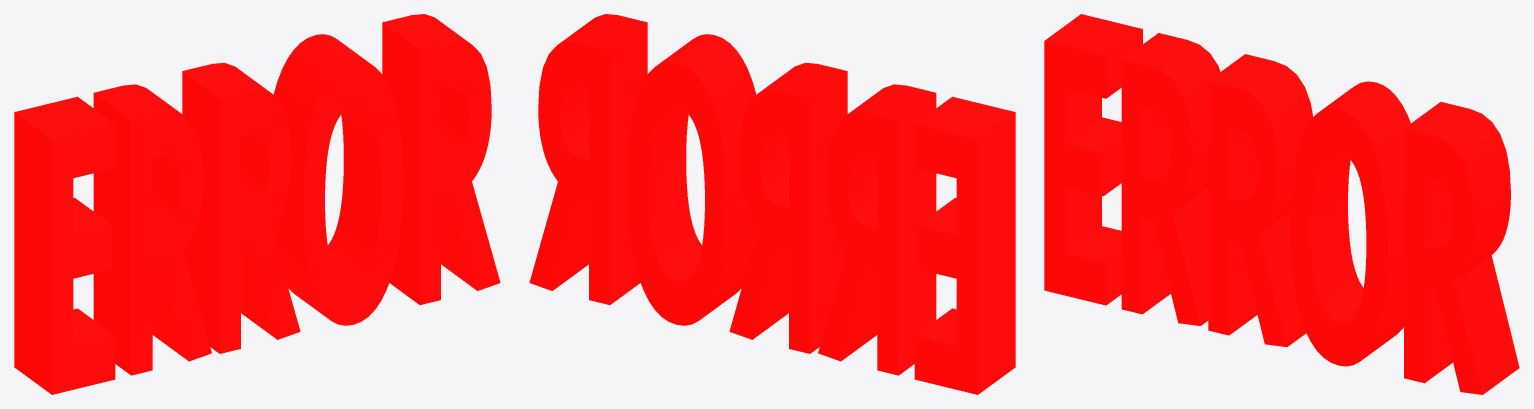
The model's file is error.glb.
The picture shows the model from 3 angles, left to right: view 1: azimuth 30°, elevation 25°; view 2: azimuth 150°, elevation 25°; view 3: azimuth 330°, elevation 25°; orthographic projection. The views are drawn at different scales.
Parts seen in each view (by area): view 1: Object_2; view 2: Object_2; view 3: Object_2.
Boxes of the visible parts, <box> form: Object_2: <box>14,14,500,394</box>; Object_2: <box>529,14,1015,394</box>; Object_2: <box>1044,14,1519,394</box>.
Bounding box in the file's own units: 2.32 × 1.3 × 0.3372.
